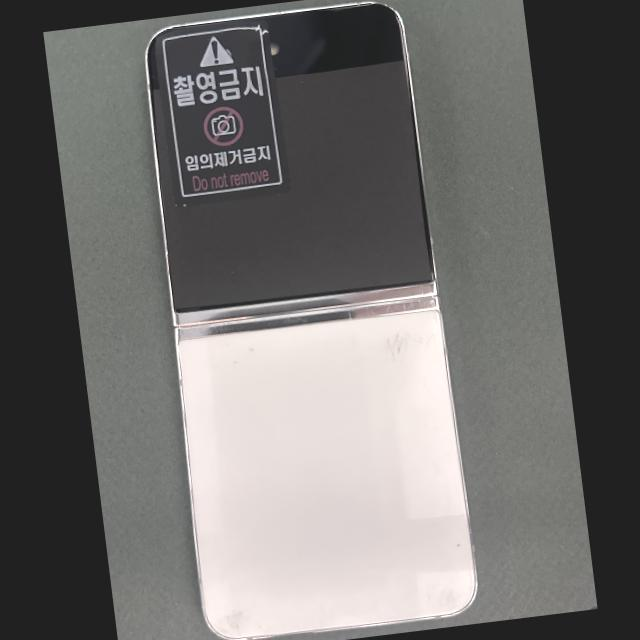phone: (147, 3, 476, 639)
sticker: (154, 20, 289, 206)
